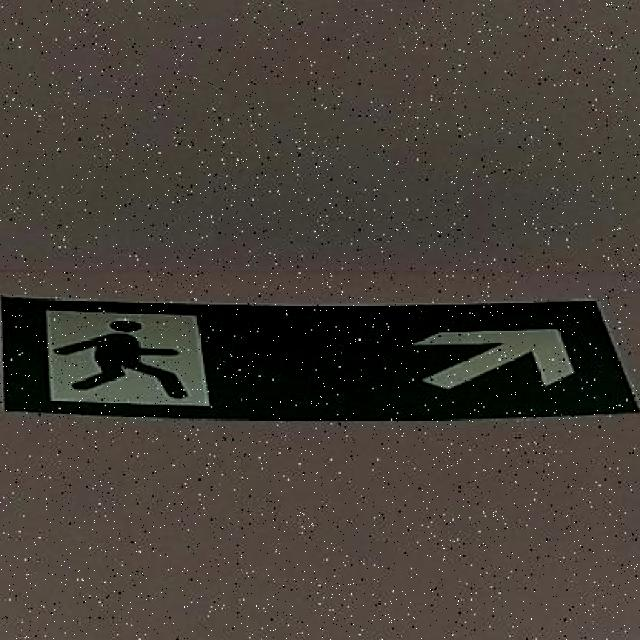emergency_exit: (2, 295, 638, 421)
